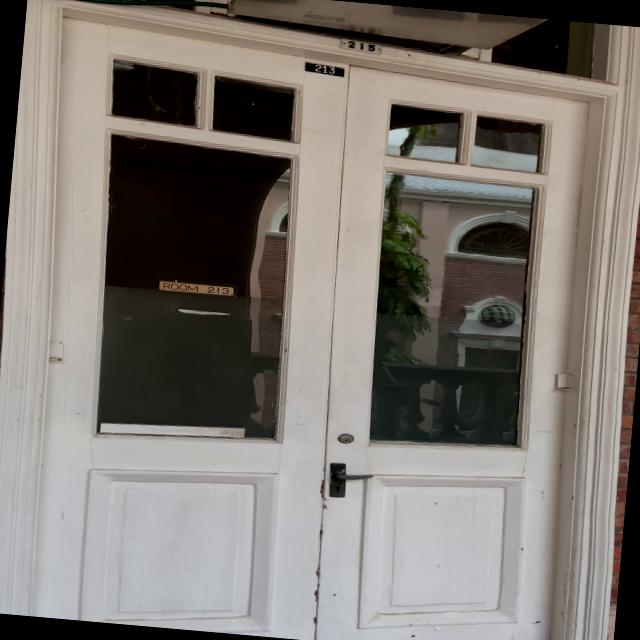room213: (298, 57, 344, 77)
room213Window: (152, 273, 248, 300)
